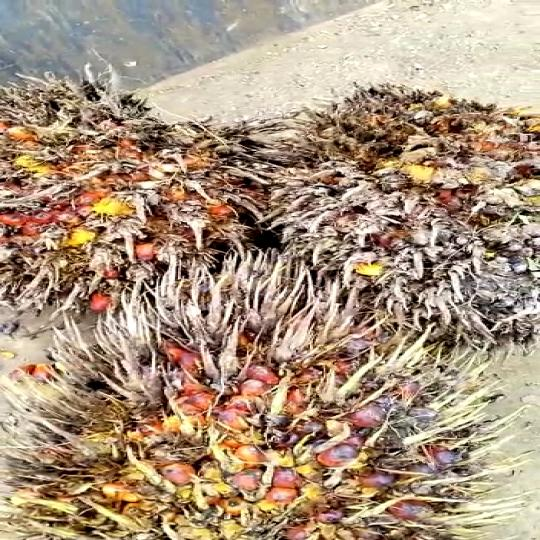terlalu masak: (0, 314, 532, 540), (249, 81, 540, 324), (0, 81, 286, 316)
